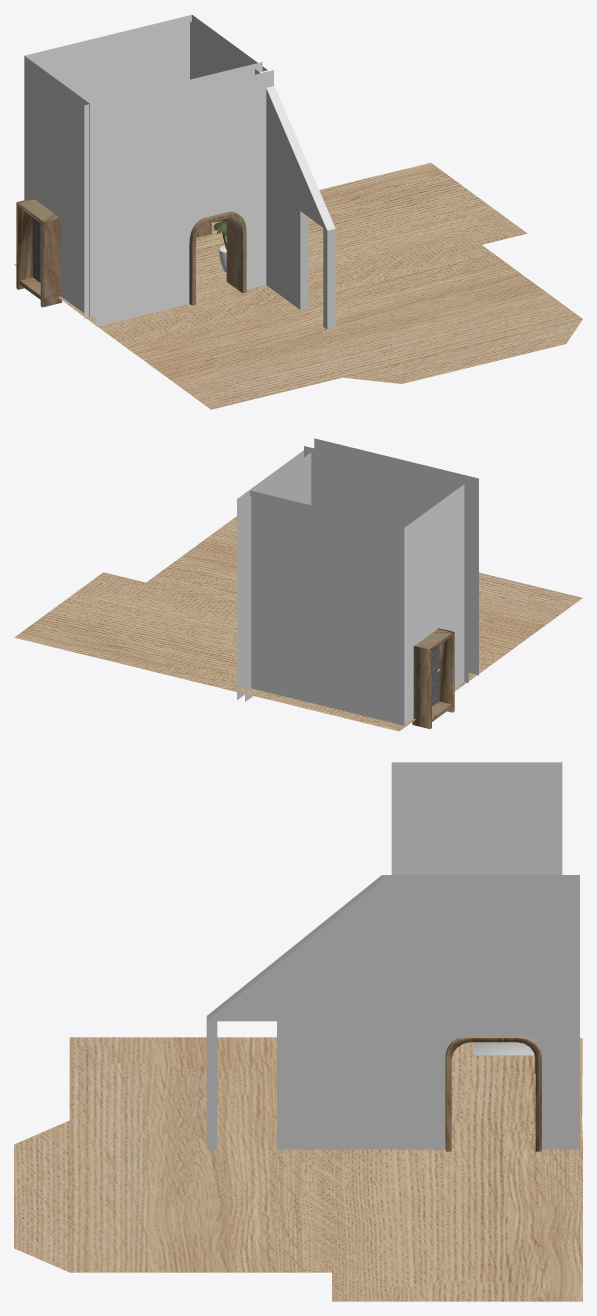
The model's file is EntranceClean.fbx.
3 views of the same model, one above another, from view 1: azimuth 30°, elevation 25°; view 2: azimuth 150°, elevation 25°; view 3: azimuth 270°, elevation 25° (orthographic). The views are drawn at different scales.
Visible parts, largest first — view 1: Apartment_FloorClean, APT_Arch_WallClean, APT_Hallway_WallClean, APT_Middle_WallClean, Door_FrameClean, Door_ApartmentClean; view 2: APT_Hallway_WallClean, Apartment_FloorClean, APT_Arch_WallClean, APT_Middle_WallClean, Door_FrameClean, Door_ApartmentClean; view 3: Apartment_FloorClean, APT_Middle_WallClean, APT_Hallway_WallClean, DoormatClean.001Clean.
Part boxes in pixels (left/top/right/bottom): Apartment_FloorClean: left=14, top=162, right=582, bottom=409; APT_Arch_WallClean: left=84, top=62, right=273, bottom=326; APT_Hallway_WallClean: left=18, top=15, right=191, bottom=317; APT_Middle_WallClean: left=190, top=14, right=335, bottom=329; Door_FrameClean: left=16, top=198, right=61, bottom=307; Door_ApartmentClean: left=32, top=217, right=40, bottom=282; APT_Hallway_WallClean: left=250, top=484, right=464, bottom=725; Apartment_FloorClean: left=14, top=516, right=582, bottom=731; APT_Arch_WallClean: left=304, top=438, right=478, bottom=682; APT_Middle_WallClean: left=237, top=450, right=311, bottom=701; Door_FrameClean: left=412, top=628, right=454, bottom=728; Door_ApartmentClean: left=432, top=646, right=439, bottom=706; Apartment_FloorClean: left=14, top=1037, right=582, bottom=1301; APT_Middle_WallClean: left=206, top=875, right=579, bottom=1151; APT_Hallway_WallClean: left=391, top=762, right=562, bottom=874; DoormatClean.001Clean: left=474, top=1042, right=533, bottom=1055.
Bounding box in the file's own units: 1580 × 825 × 1388.
